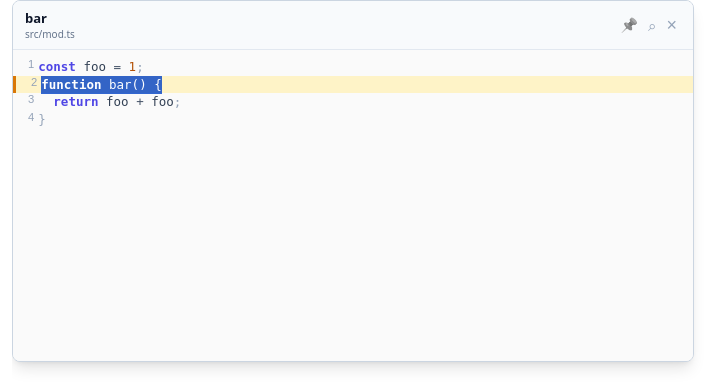
Test: preview frame copy menu › enables Copy with context for a selection on a numbered source row
Right-click the element with class "symbol-widget__body": (353, 206) [13,50,693,361]
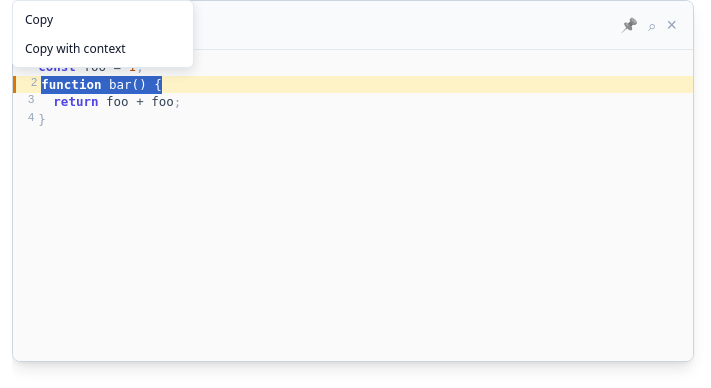
Check: the menu item "Copy with context" is enabled, box [13,34,193,63]
